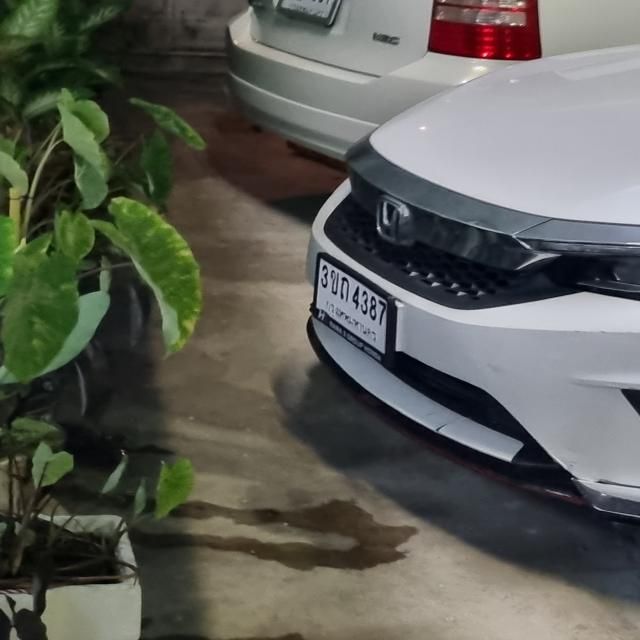license_plate: (308, 250, 397, 364)
